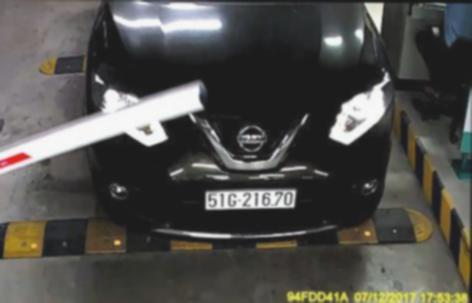License_Plate: (201, 184, 302, 214)
